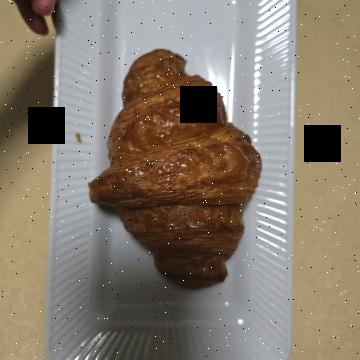croissant: (35, 90, 295, 281)
